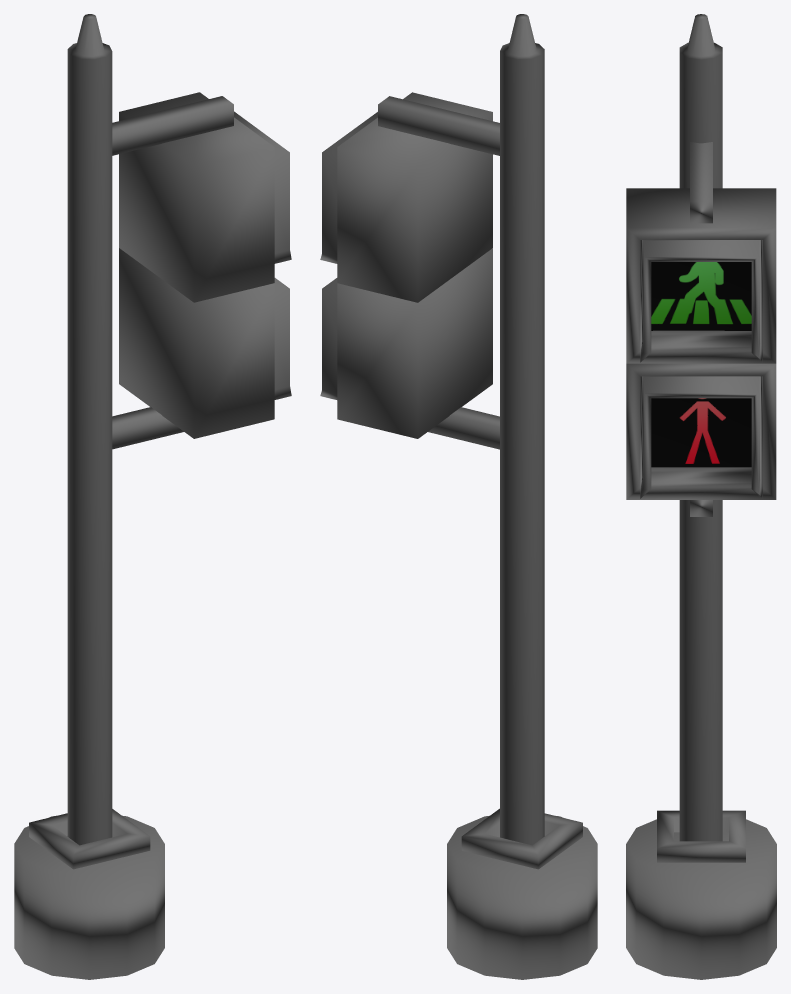
File: Pedestrian Sign.fbx
3 views of the same model, side by side, from view 1: azimuth 30°, elevation 25°; view 2: azimuth 150°, elevation 25°; view 3: azimuth 270°, elevation 25° (orthographic).
Visible parts, largest first — view 1: Stop_And_Go_for_walk1; view 2: Stop_And_Go_for_walk1; view 3: Stop_And_Go_for_walk1.
Boxes of the visible parts, box(x1,y1,x2,y2) form: Stop_And_Go_for_walk1: box(14, 14, 291, 979); Stop_And_Go_for_walk1: box(320, 14, 597, 979); Stop_And_Go_for_walk1: box(626, 14, 776, 979).
Bounding box in the file's own units: 6.27 × 23.55 × 3.45.
Materials: 2 (1 with a texture image).
